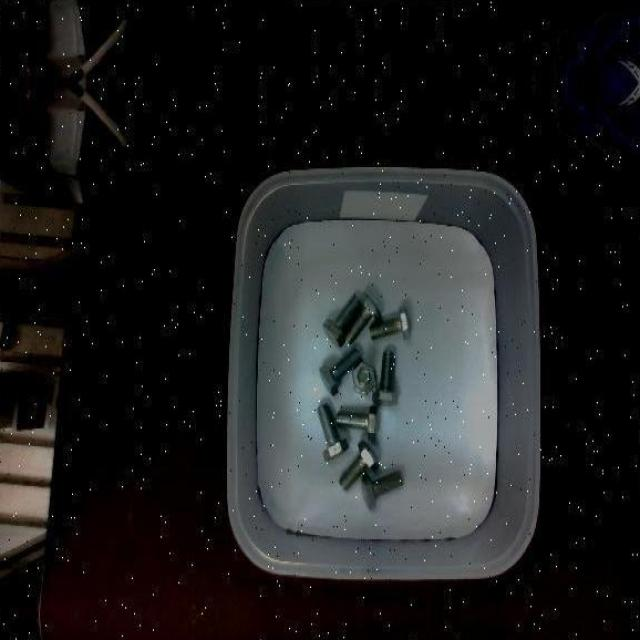screw: (338, 440, 378, 491), (322, 295, 361, 346), (343, 292, 381, 344), (314, 403, 348, 461), (319, 348, 361, 394), (361, 470, 403, 510), (334, 406, 379, 442), (373, 351, 399, 406), (369, 306, 411, 340), (351, 359, 375, 394)
